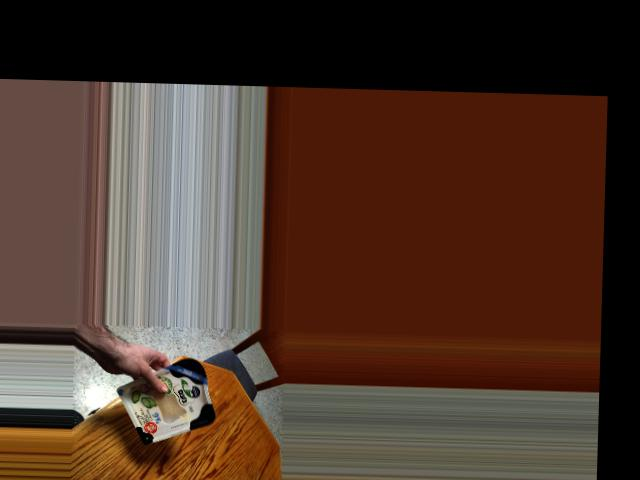cheese: (132, 360, 221, 443)
